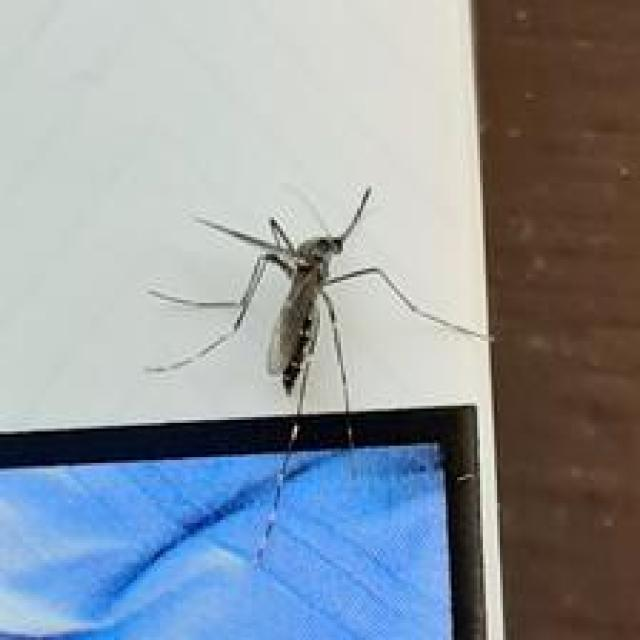Aedes albopictus: (141, 181, 496, 570)
